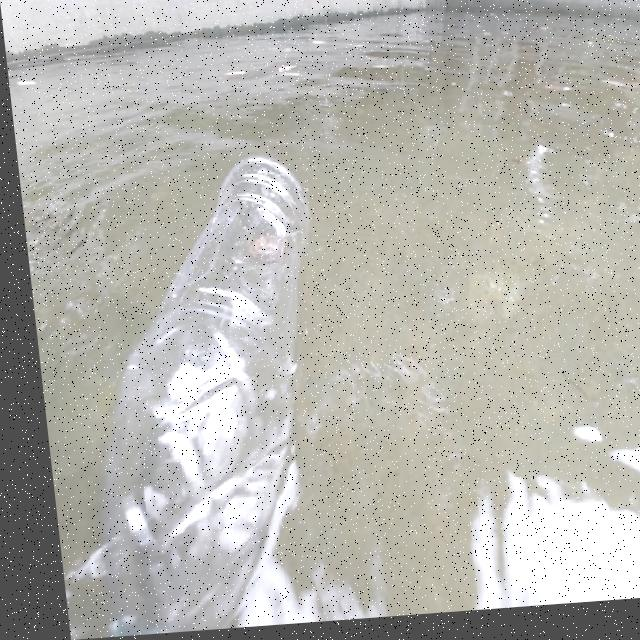waterbottle: (14, 140, 364, 640)
